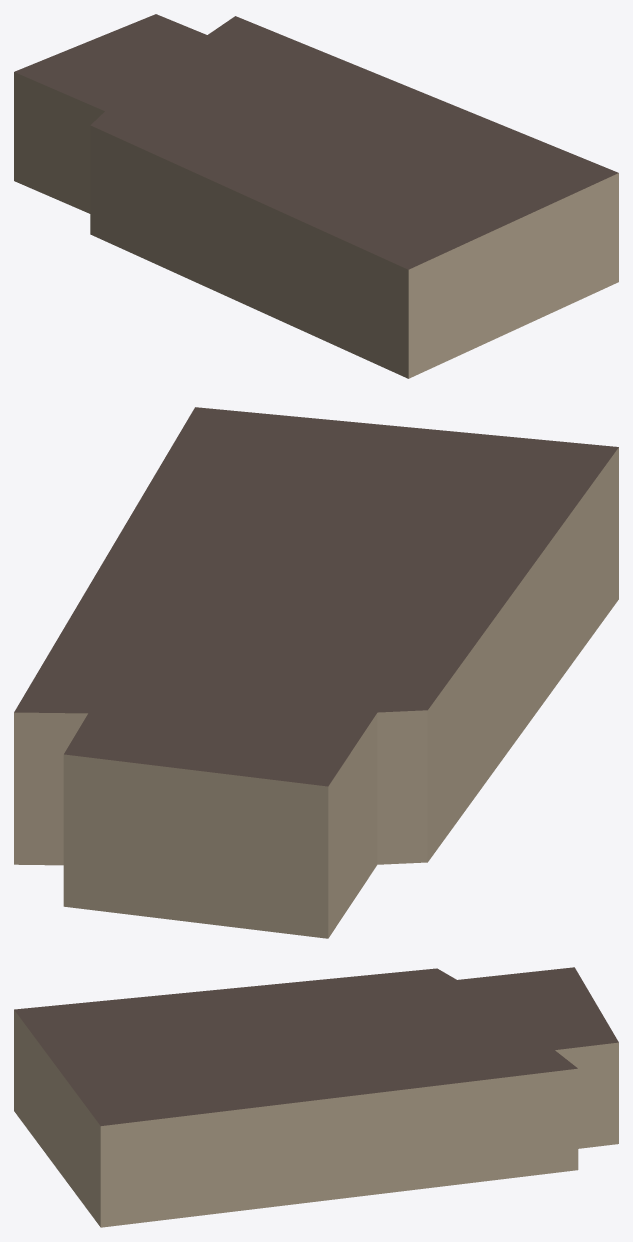
3 renders of one model, top to bottom at view 1: azimuth 30°, elevation 25°; view 2: azimuth 150°, elevation 25°; view 3: azimuth 270°, elevation 25°, orthographic. The views are drawn at different scales.
Visible parts, largest first — view 1: HP-w1512481855; view 2: HP-w1512481855; view 3: HP-w1512481855.
Part boxes in pixels (x1,y1,x2,y2): HP-w1512481855: [14, 14, 618, 378]; HP-w1512481855: [14, 407, 618, 938]; HP-w1512481855: [14, 967, 618, 1227].
Bounding box in the file's own units: 30.22 × 9 × 48.62.
